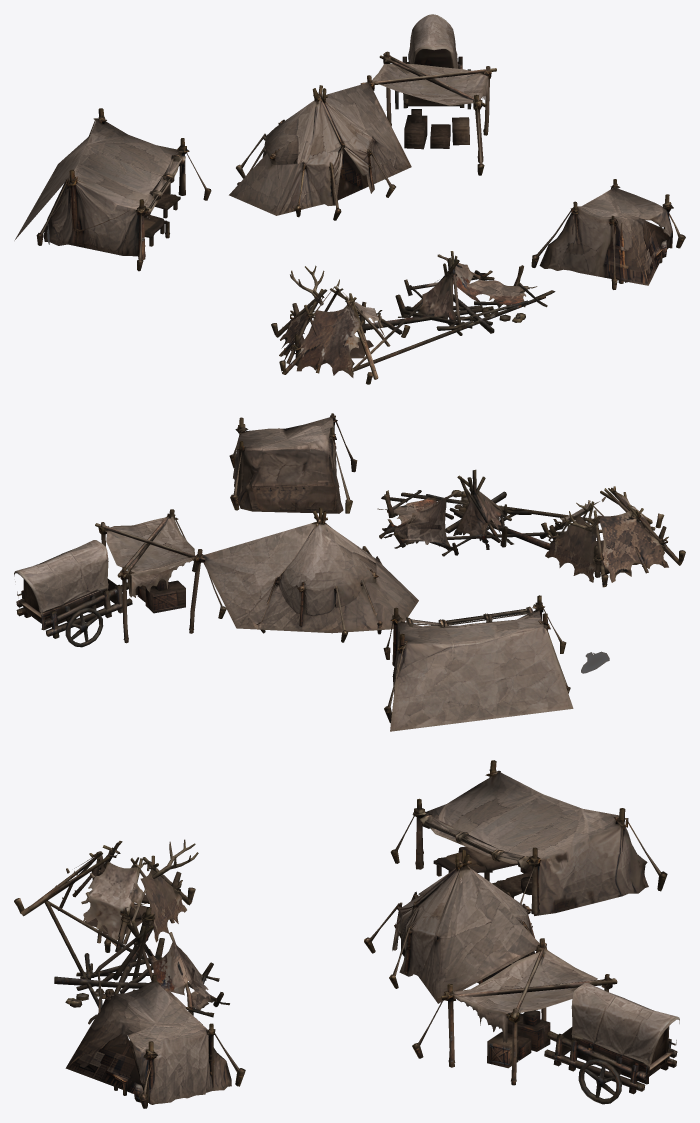
The model's file is asset_13_tent_set_b.glb.
The picture shows the model from 3 angles, top to bottom: view 1: azimuth 30°, elevation 25°; view 2: azimuth 150°, elevation 25°; view 3: azimuth 270°, elevation 25°; orthographic projection. The views are drawn at different scales.
Visible parts, largest first — view 1: tripo_357bb253_6717_431c_8b11_1eb1141e26ff; view 2: tripo_357bb253_6717_431c_8b11_1eb1141e26ff; view 3: tripo_357bb253_6717_431c_8b11_1eb1141e26ff.
Part boxes in pixels (<box>): tripo_357bb253_6717_431c_8b11_1eb1141e26ff: <box>14,14,685,384</box>; tripo_357bb253_6717_431c_8b11_1eb1141e26ff: <box>14,413,685,731</box>; tripo_357bb253_6717_431c_8b11_1eb1141e26ff: <box>14,760,679,1108</box>.
Bounding box in the file's own units: 0.9995 × 0.2358 × 0.9995.
1 material, 1 textured.
